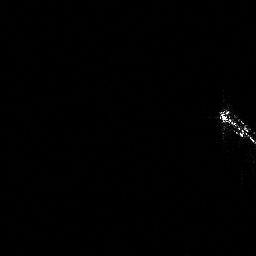ship: (218, 105, 256, 147)
